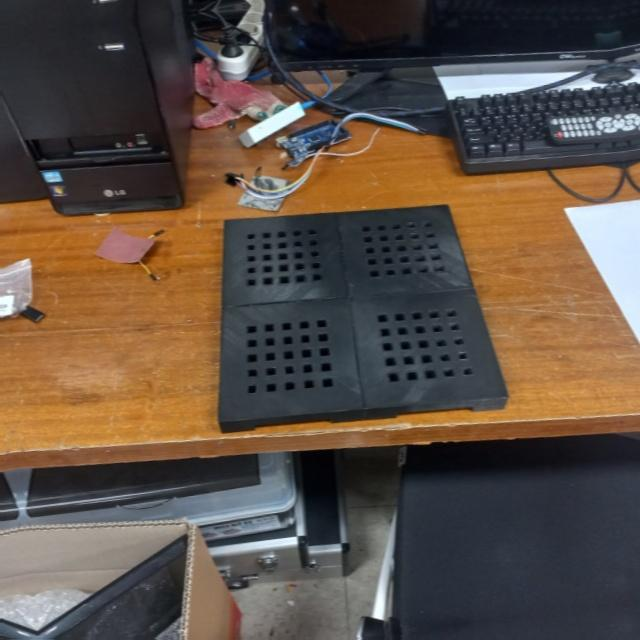pallet: (189, 184, 516, 450)
